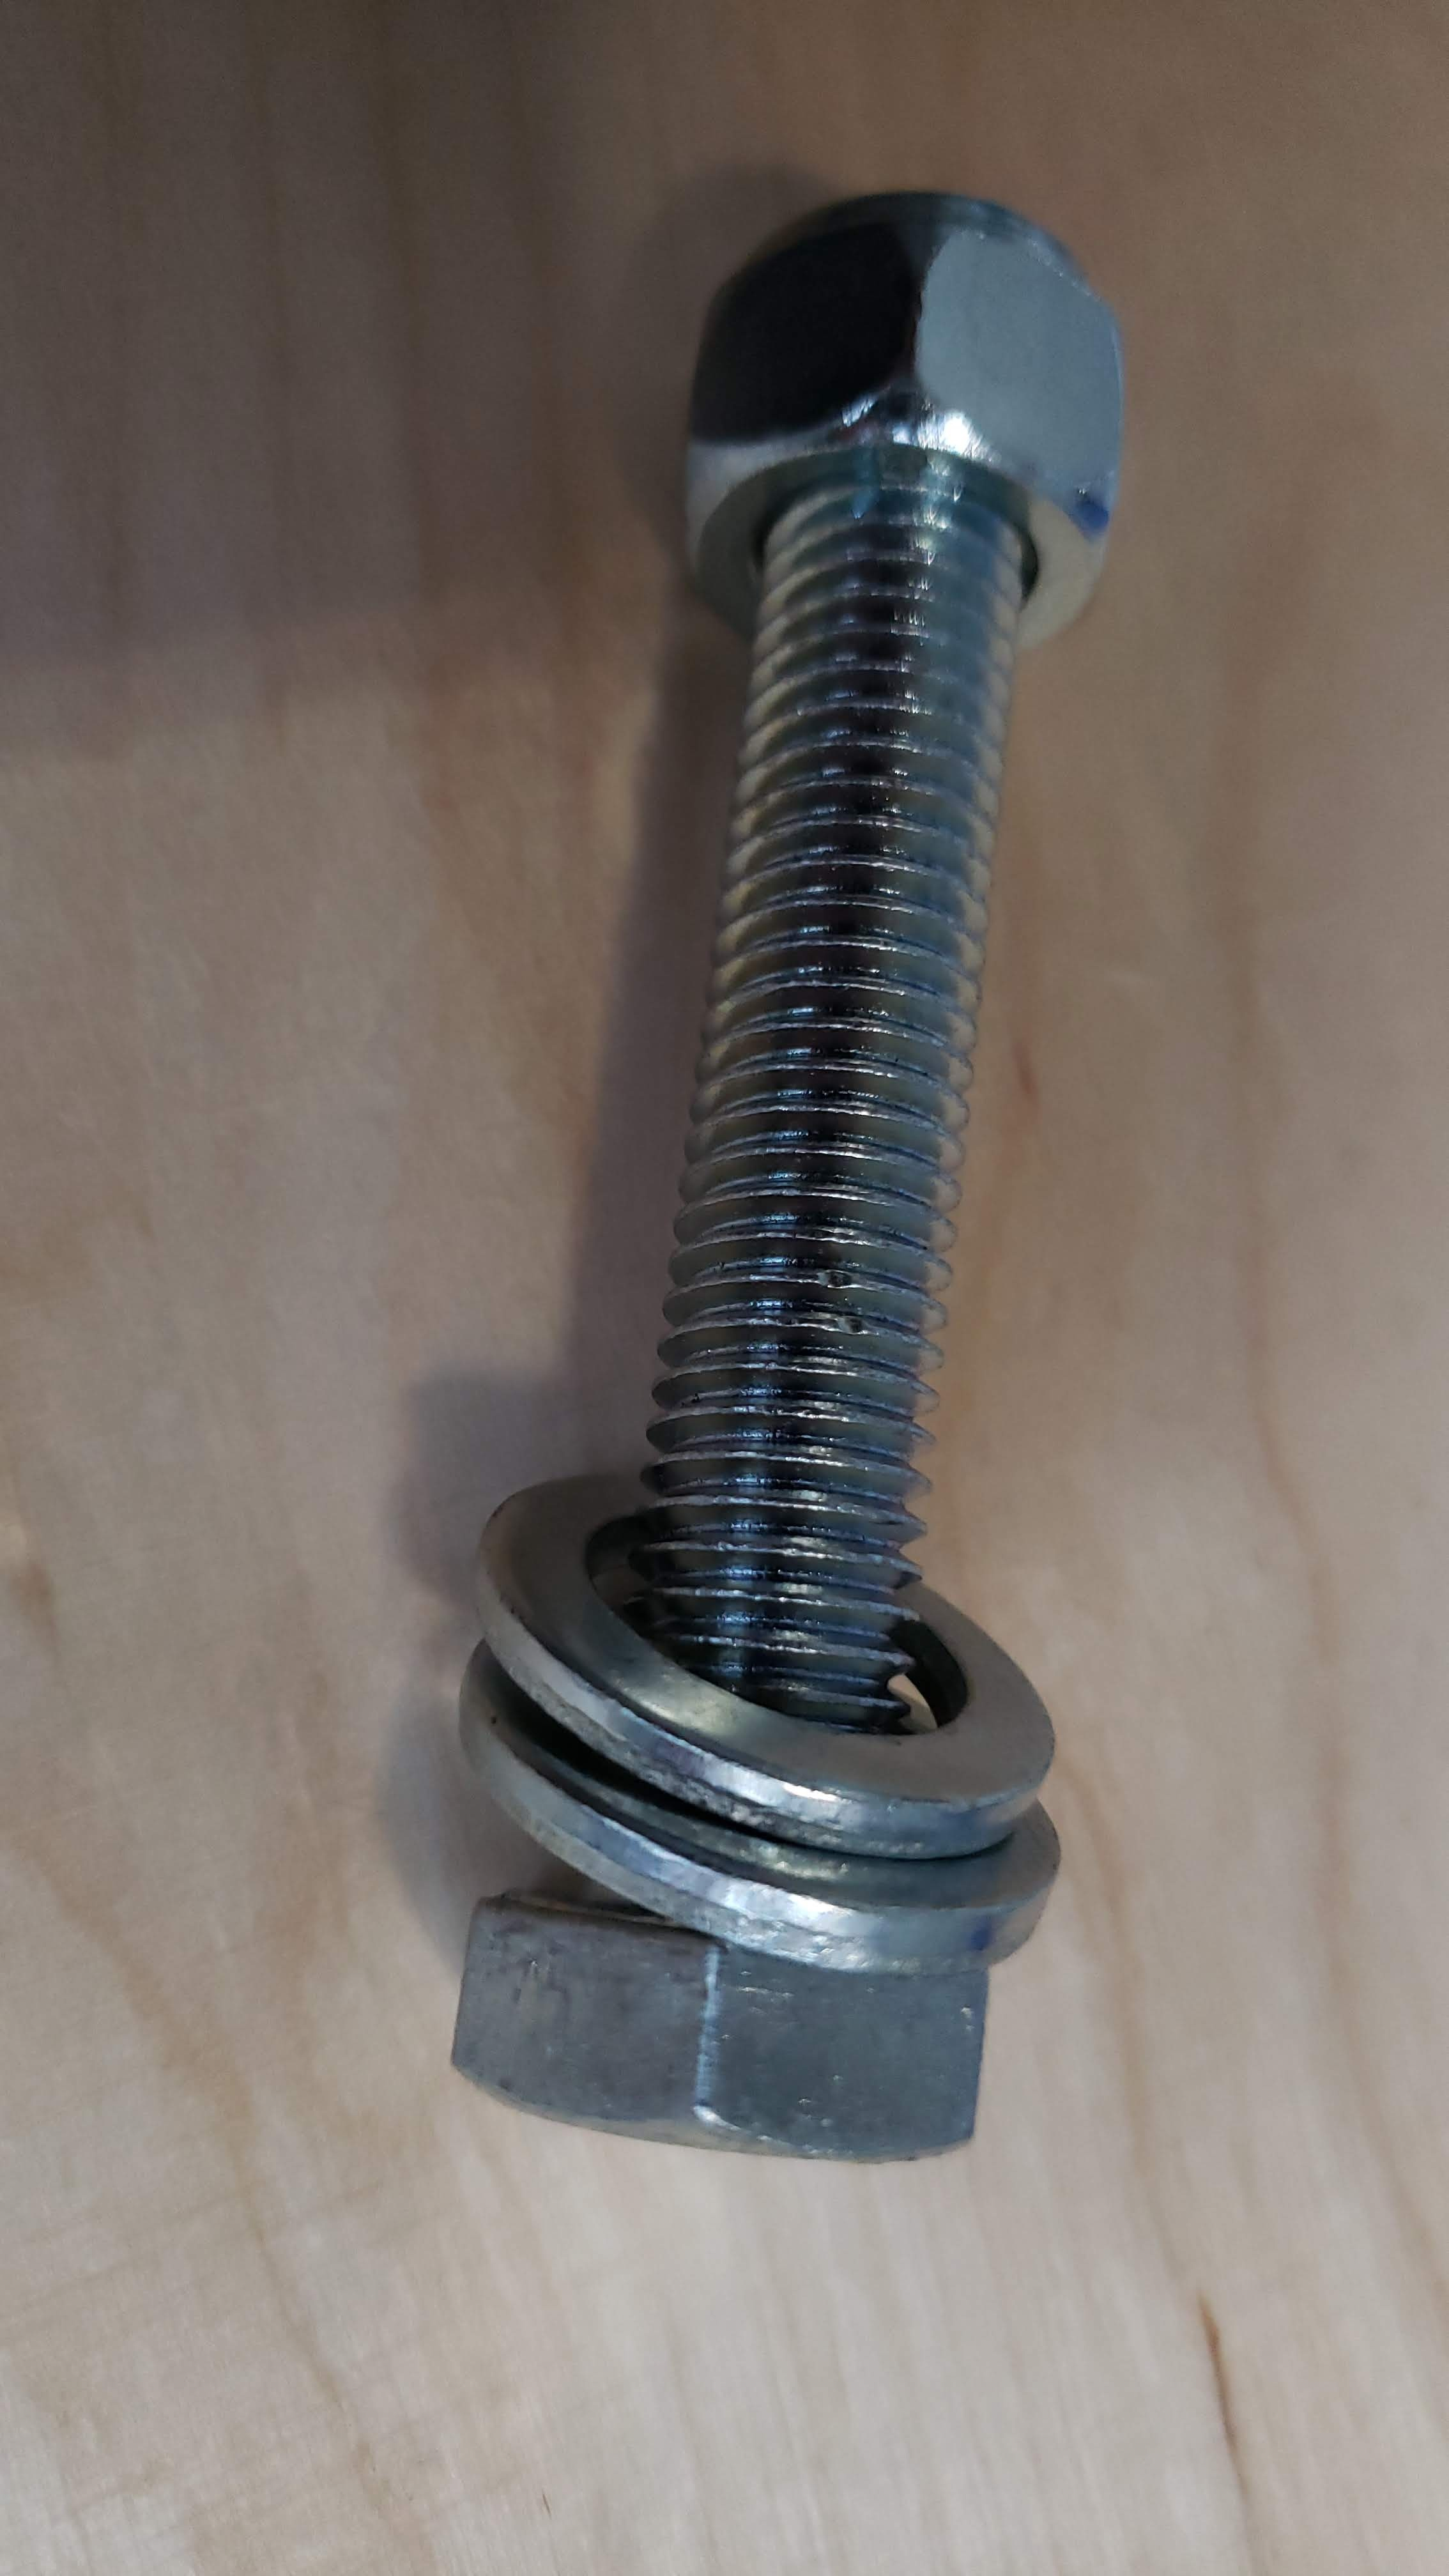FinishedAssembly: (287, 67, 1315, 2263)
